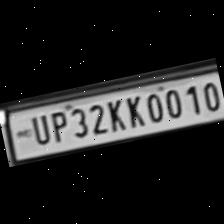0: (196, 77, 224, 114), (139, 88, 166, 125), (158, 84, 185, 121)
1: (178, 82, 202, 118)
2: (83, 99, 109, 136)
3: (64, 103, 90, 140)
K: (119, 92, 146, 130), (102, 96, 127, 132)
P: (44, 108, 69, 144)
U: (24, 111, 52, 147)
